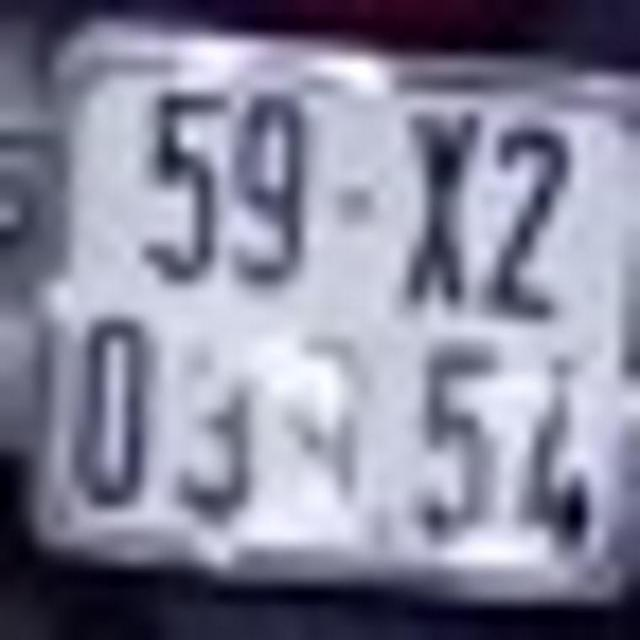0: (66, 310, 156, 518)
2: (487, 114, 570, 325)
3: (170, 306, 256, 522)
4: (512, 347, 599, 568)
5: (140, 78, 224, 284), (420, 330, 500, 546)
9: (270, 301, 369, 538), (230, 80, 310, 290)
X: (382, 83, 476, 311)
